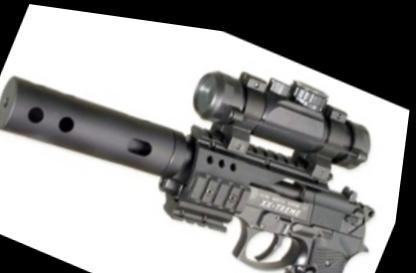pistol: (131, 110, 391, 271)
